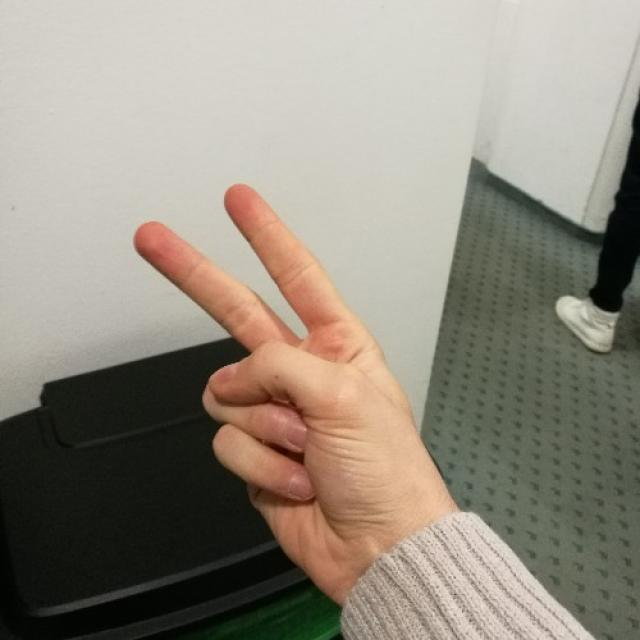scissors: (132, 179, 416, 556)
